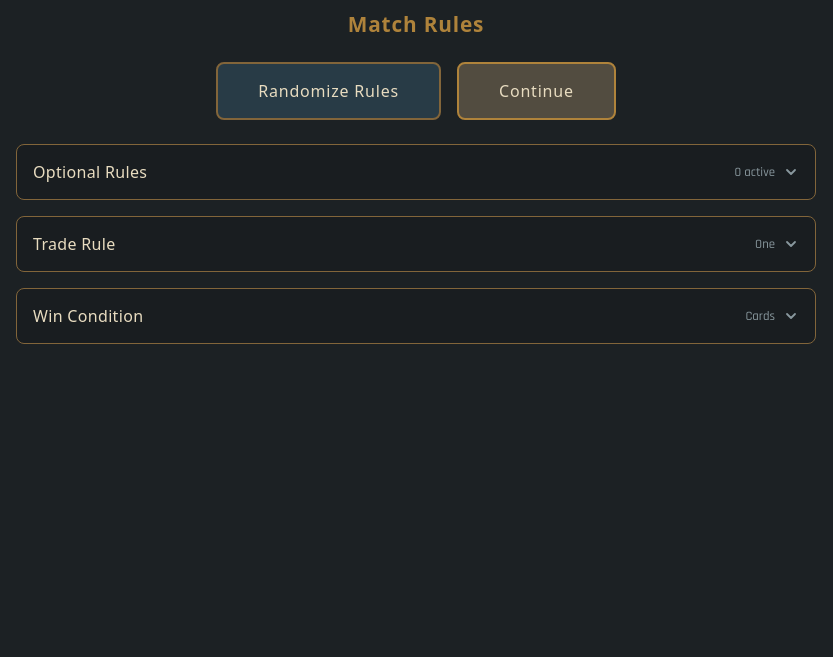
Test: RuleSelectScreen rule selection › only one trade rule radio can be selected at a time
Click the button "Trade Rule One": (74, 244) [17, 217, 815, 271]
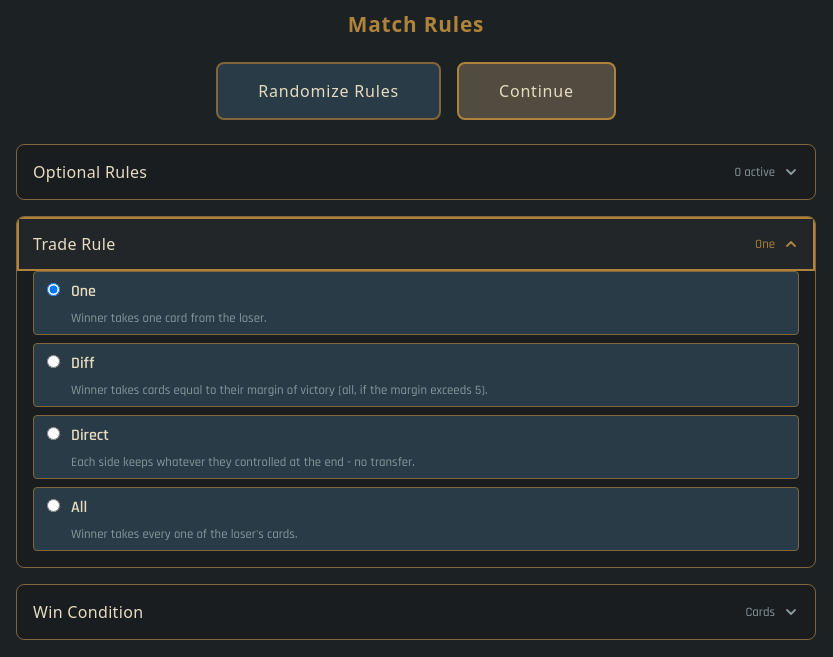
Click the radio button labelled "Diff": (54, 362) [47, 355, 60, 368]
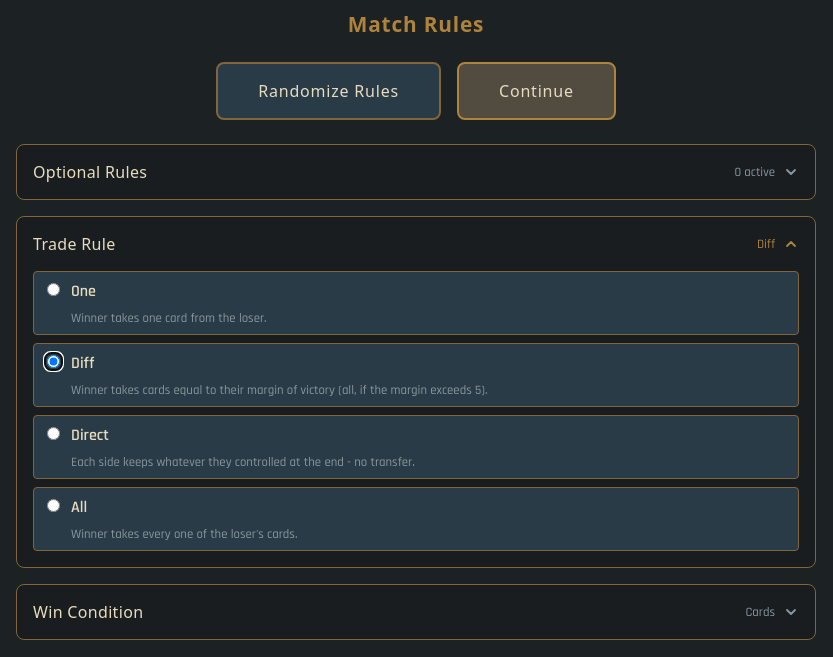
Now the radio button labelled "Diff" is checked, box [47, 355, 60, 368]
Now the radio button labelled "One Winner takes one card from the loser." is not checked, box [47, 283, 60, 296]
